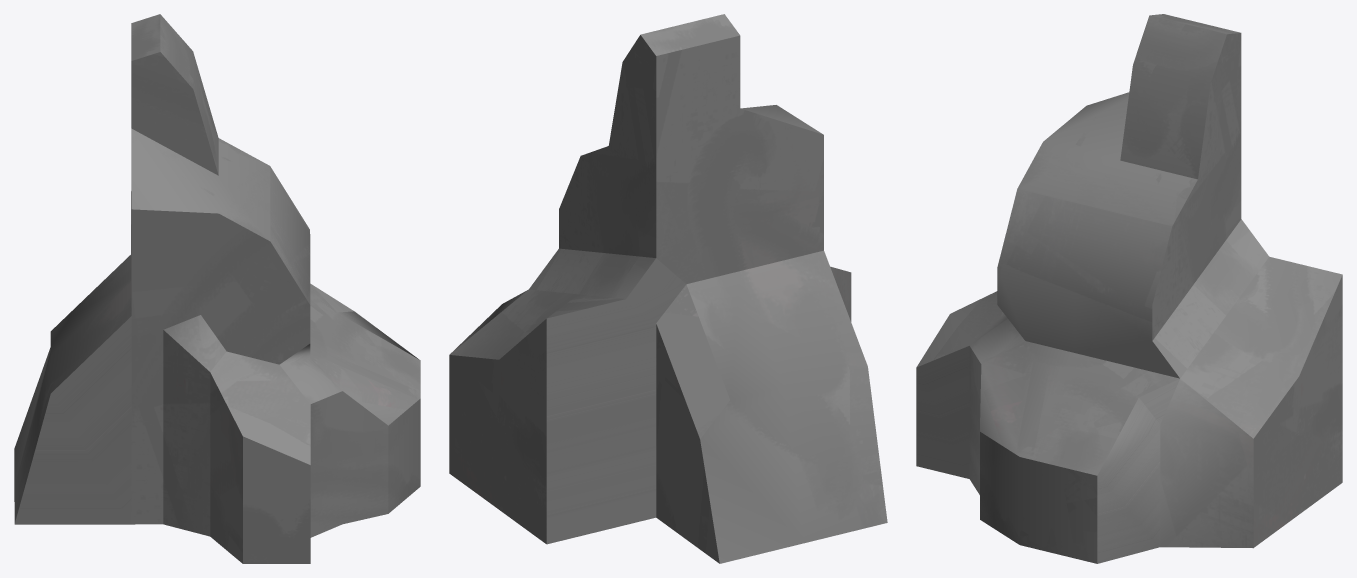
File: big rock.fbx
3 views of the same model, side by side, from view 1: azimuth 30°, elevation 25°; view 2: azimuth 150°, elevation 25°; view 3: azimuth 270°, elevation 25° (orthographic). The views are drawn at different scales.
Visible parts, largest first — view 1: Box002; view 2: Box002; view 3: Box002.
Part boxes in pixels (x1,y1,x2,y2): Box002: [14, 14, 420, 563]; Box002: [449, 14, 887, 563]; Box002: [916, 14, 1342, 563].
Bounding box in the file's own units: 177 × 192 × 171.
